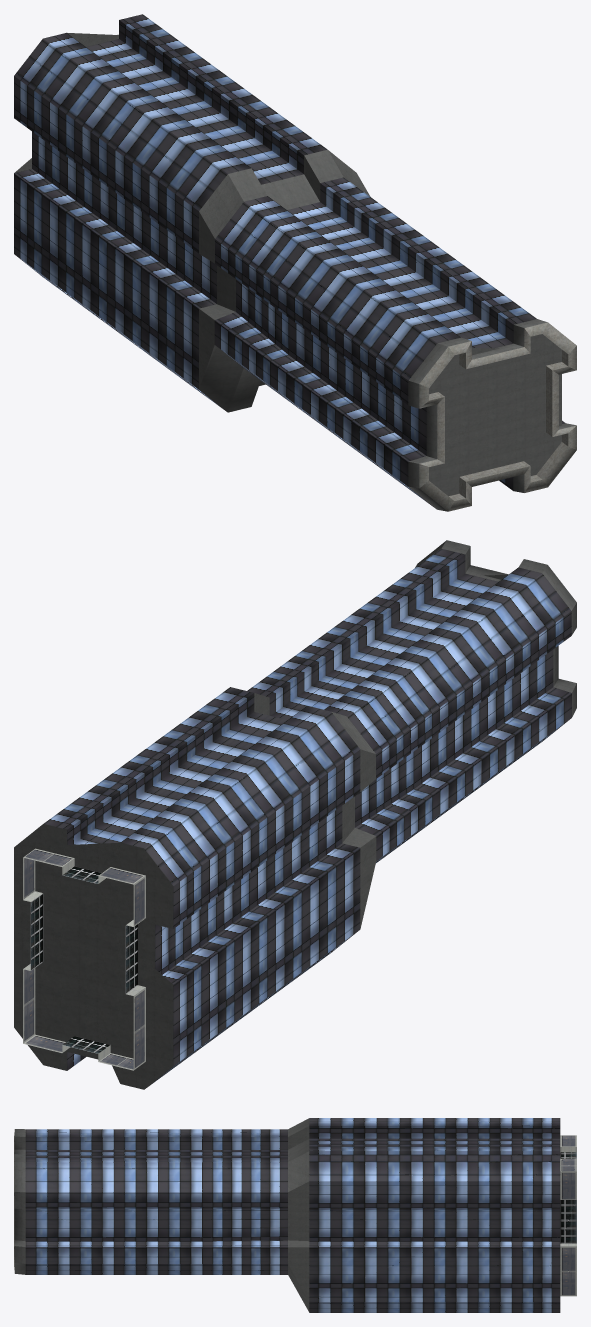
The model's file is skyscraper_windowE_04.obj.
3 views of the same model, one above another, from view 1: azimuth 30°, elevation 25°; view 2: azimuth 150°, elevation 25°; view 3: azimuth 270°, elevation 25° (orthographic). The views are drawn at different scales.
Visible parts, largest first — view 1: Object18; view 2: Object18; view 3: Object18.
Part boxes in pixels (box(x1,y1,x2,y2)): Object18: box(14, 14, 576, 511); Object18: box(14, 540, 576, 1089); Object18: box(14, 1118, 576, 1312).
Bounding box in the file's own units: 45.54 × 64.62 × 204.
Materials: 5 (5 with a texture image).
